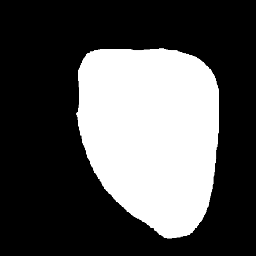mass: (78, 53, 215, 233)
